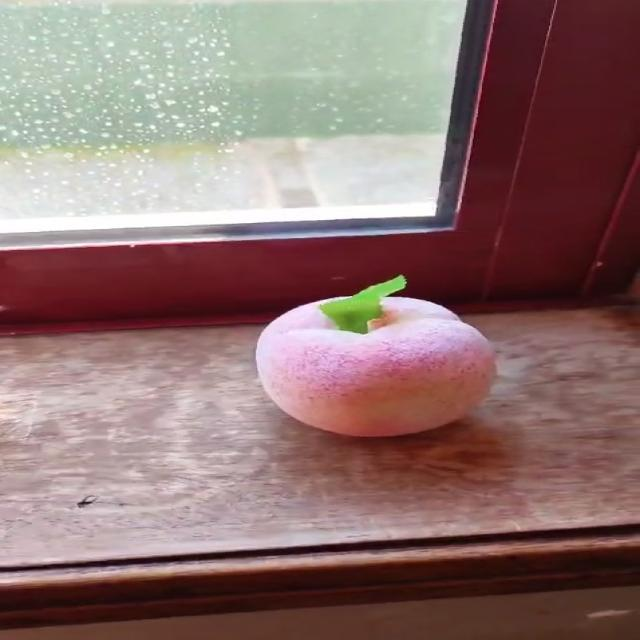peach: (256, 275, 496, 436)
